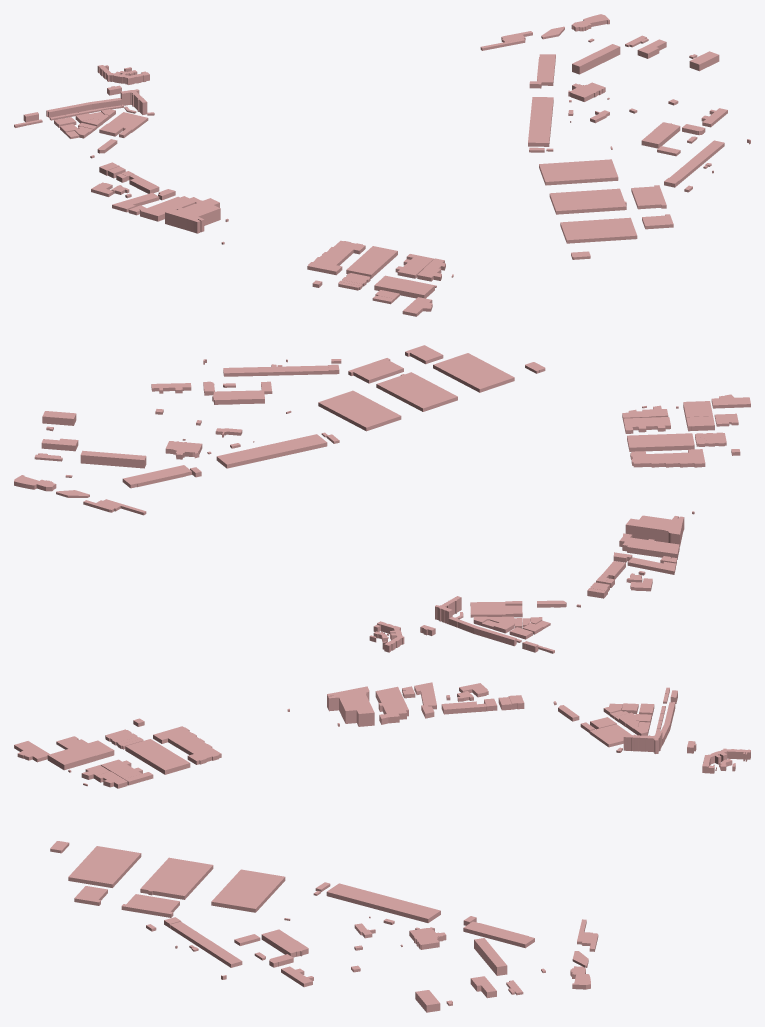
Rendered from red_buildings_lod12-dfb200fbb9cd.glb.
3 renders of one model, top to bottom at view 1: azimuth 30°, elevation 25°; view 2: azimuth 150°, elevation 25°; view 3: azimuth 270°, elevation 25°, orthographic. The views are drawn at different scales.
Parts seen in each view (by area): view 1: BAG_0599100010074628, BAG_0599100010058148, BAG_0599100010032492, BAG_0606100000012577, BAG_0599100000018261, BAG_0606100000001911, BAG_0606100000002555, BAG_0606100000000348, BAG_0599100000641267, BAG_0599100010017043, BAG_0599100010034250, BAG_0599100000330775 (+4 smaller); view 2: BAG_0599100010074628, BAG_0599100010058148, BAG_0599100010032492, BAG_0599100000018261, BAG_0606100000012577, BAG_0606100000001911, BAG_0606100000002555, BAG_0599100000641267, BAG_0606100000000348, BAG_0599100010017043, BAG_0599100010034250, BAG_0599100000142086 (+4 smaller); view 3: BAG_0599100010074628, BAG_0599100010058148, BAG_0599100010032492, BAG_0599100000018261, BAG_0606100000012577, BAG_0606100000001911, BAG_0606100000002555, BAG_0606100000000348, BAG_0599100000641267, BAG_0599100010034250, BAG_0599100000142086, BAG_0606100000003312 (+5 smaller).
Boxes of the visible parts, bbox=[...] form: BAG_0599100010074628: bbox=[539, 159, 618, 185]; BAG_0599100010058148: bbox=[549, 188, 626, 214]; BAG_0599100010032492: bbox=[560, 217, 637, 243]; BAG_0606100000012577: bbox=[165, 198, 220, 233]; BAG_0599100000018261: bbox=[528, 97, 553, 146]; BAG_0606100000001911: bbox=[307, 240, 365, 275]; BAG_0606100000002555: bbox=[346, 246, 397, 278]; BAG_0606100000000348: bbox=[140, 196, 202, 221]; BAG_0599100000641267: bbox=[669, 140, 724, 183]; BAG_0599100010017043: bbox=[572, 44, 620, 74]; BAG_0599100010034250: bbox=[631, 185, 666, 209]; BAG_0599100000330775: bbox=[641, 122, 680, 148]; BAG_0599100010074628: bbox=[318, 390, 401, 431]; BAG_0599100010058148: bbox=[376, 372, 457, 411]; BAG_0599100010032492: bbox=[433, 353, 514, 392]; BAG_0599100000018261: bbox=[216, 434, 327, 468]; BAG_0606100000012577: bbox=[625, 515, 684, 546]; BAG_0606100000001911: bbox=[630, 449, 705, 467]; BAG_0606100000002555: bbox=[627, 433, 694, 451]; BAG_0599100000641267: bbox=[223, 365, 329, 376]; BAG_0606100000000348: bbox=[619, 533, 679, 559]; BAG_0599100010017043: bbox=[80, 450, 146, 468]; BAG_0599100010034250: bbox=[348, 358, 403, 383]; BAG_0599100000142086: bbox=[122, 465, 191, 488]; BAG_0599100010074628: bbox=[211, 869, 285, 912]; BAG_0599100010058148: bbox=[140, 857, 213, 899]; BAG_0599100010032492: bbox=[68, 846, 141, 887]; BAG_0599100000018261: bbox=[326, 883, 440, 922]; BAG_0606100000012577: bbox=[327, 686, 374, 726]; BAG_0606100000001911: bbox=[153, 726, 221, 764]; BAG_0606100000002555: bbox=[125, 739, 190, 774]; BAG_0606100000000348: bbox=[375, 686, 408, 724]; BAG_0599100000641267: bbox=[169, 921, 242, 967]; BAG_0599100010034250: bbox=[121, 894, 179, 917]; BAG_0599100000142086: bbox=[463, 921, 534, 948]; BAG_0606100000003312: bbox=[47, 746, 95, 770].
Bounding box in the file's own units: 1475 × 33.27 × 1402.
